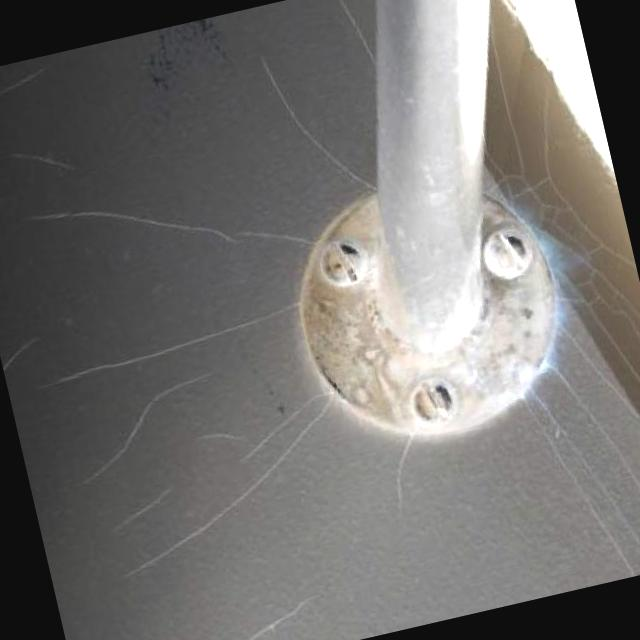crack: (96, 386, 368, 586), (11, 140, 315, 318), (38, 296, 320, 398), (63, 363, 239, 490), (250, 36, 374, 201), (215, 583, 350, 640), (382, 422, 458, 521), (89, 468, 184, 543), (186, 406, 286, 464)
